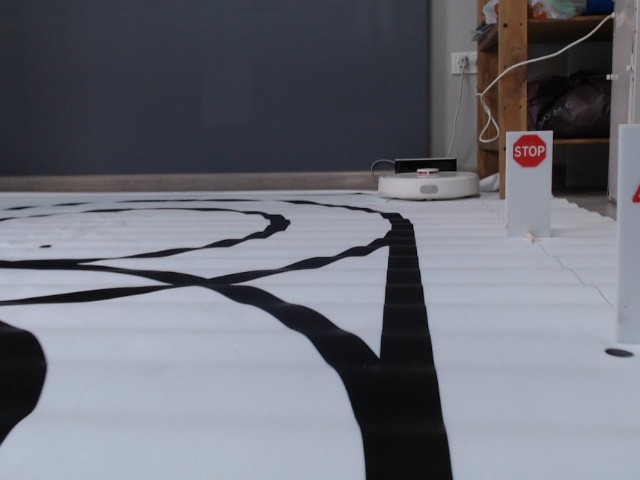Stop: (512, 133, 547, 169)
